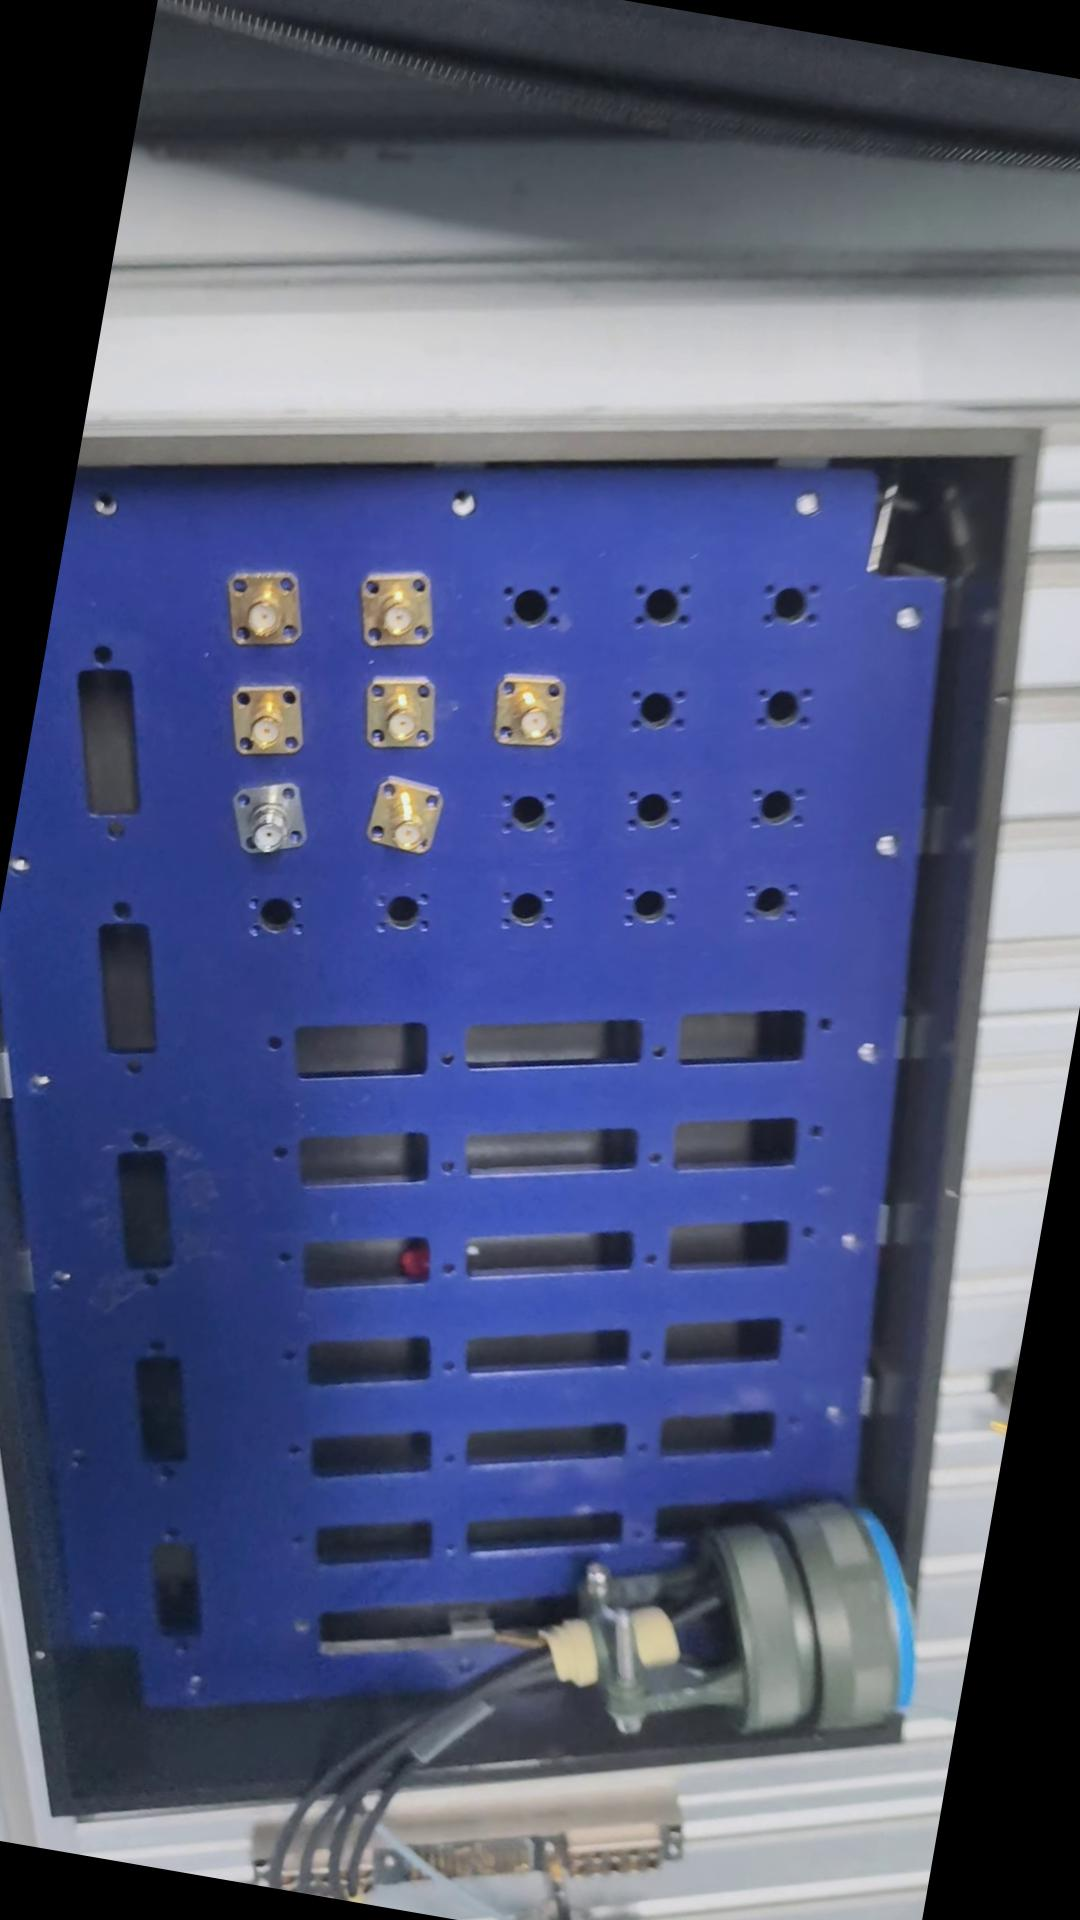SMA: (214, 558, 319, 653), (348, 563, 452, 655), (491, 665, 579, 761), (363, 773, 454, 861), (223, 680, 316, 765), (224, 773, 315, 858), (355, 673, 446, 753)
